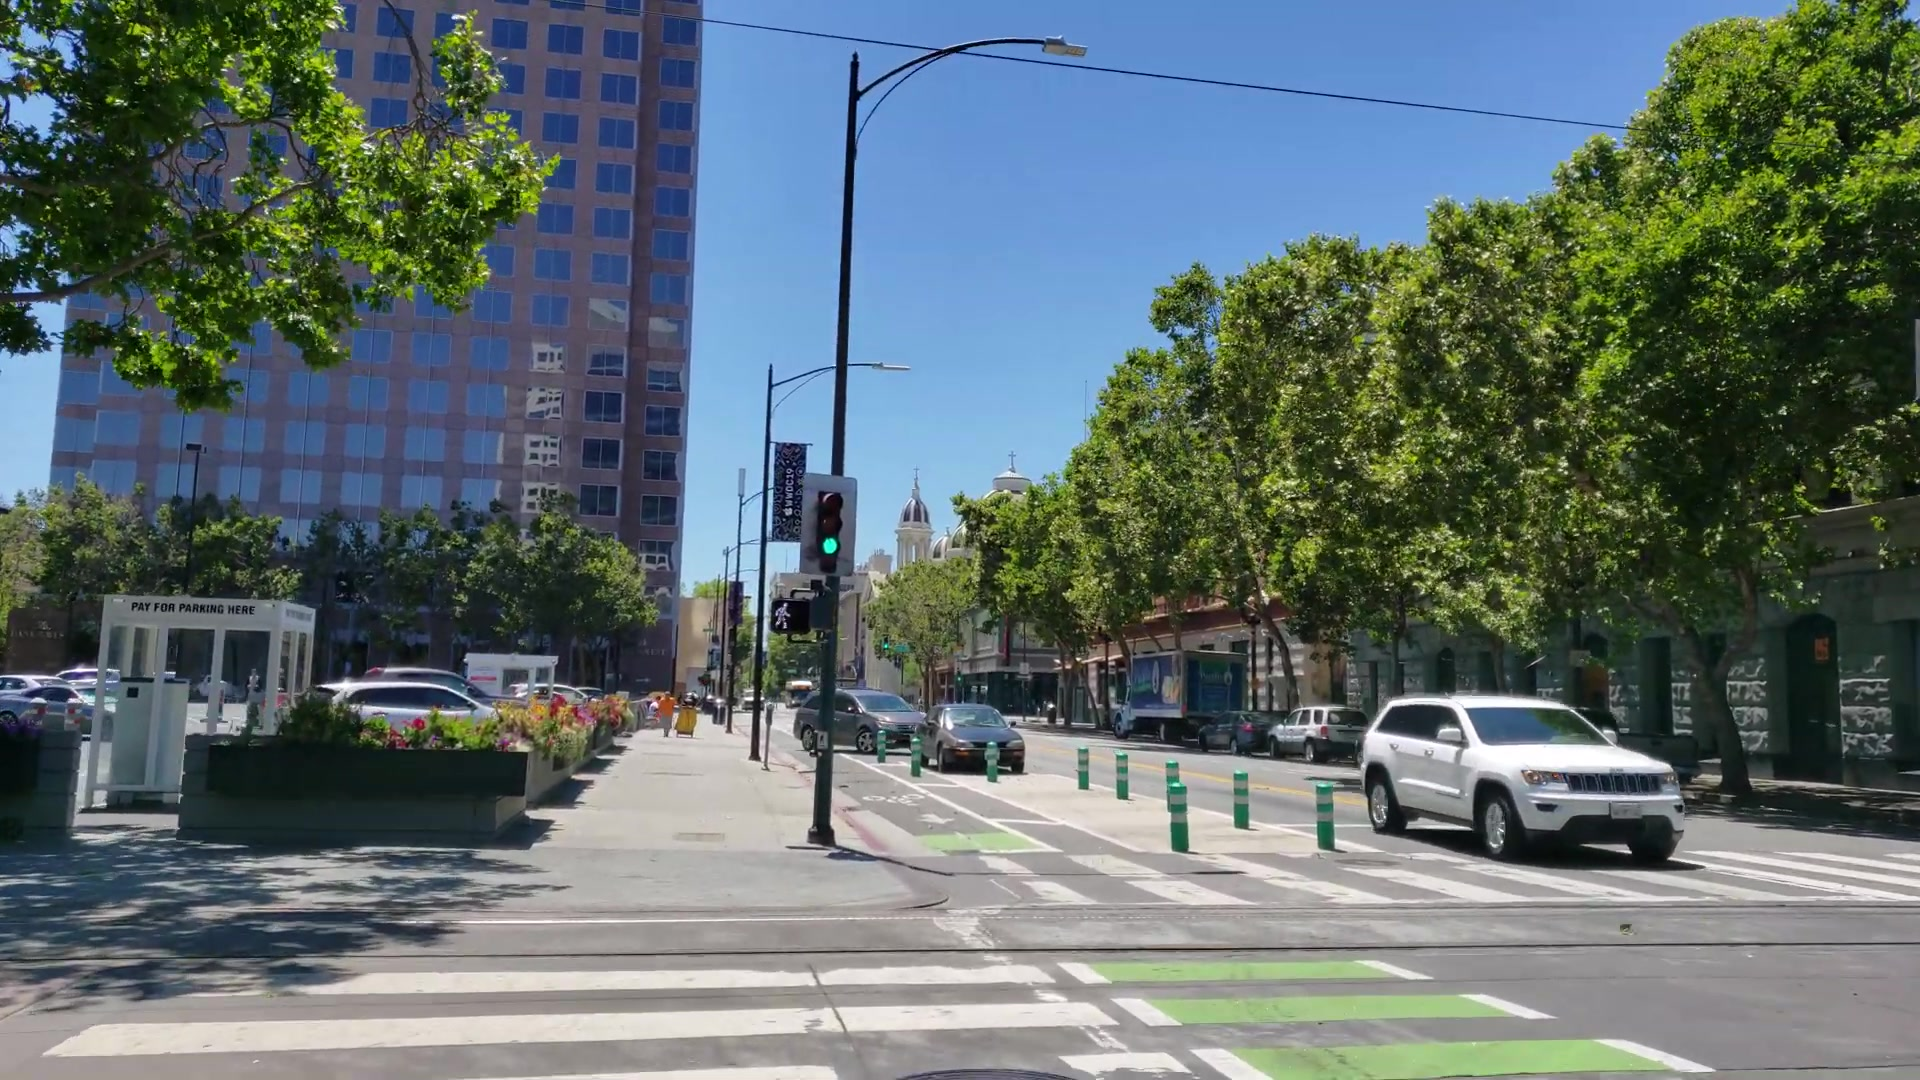vehicle: (1364, 694, 1687, 860)
